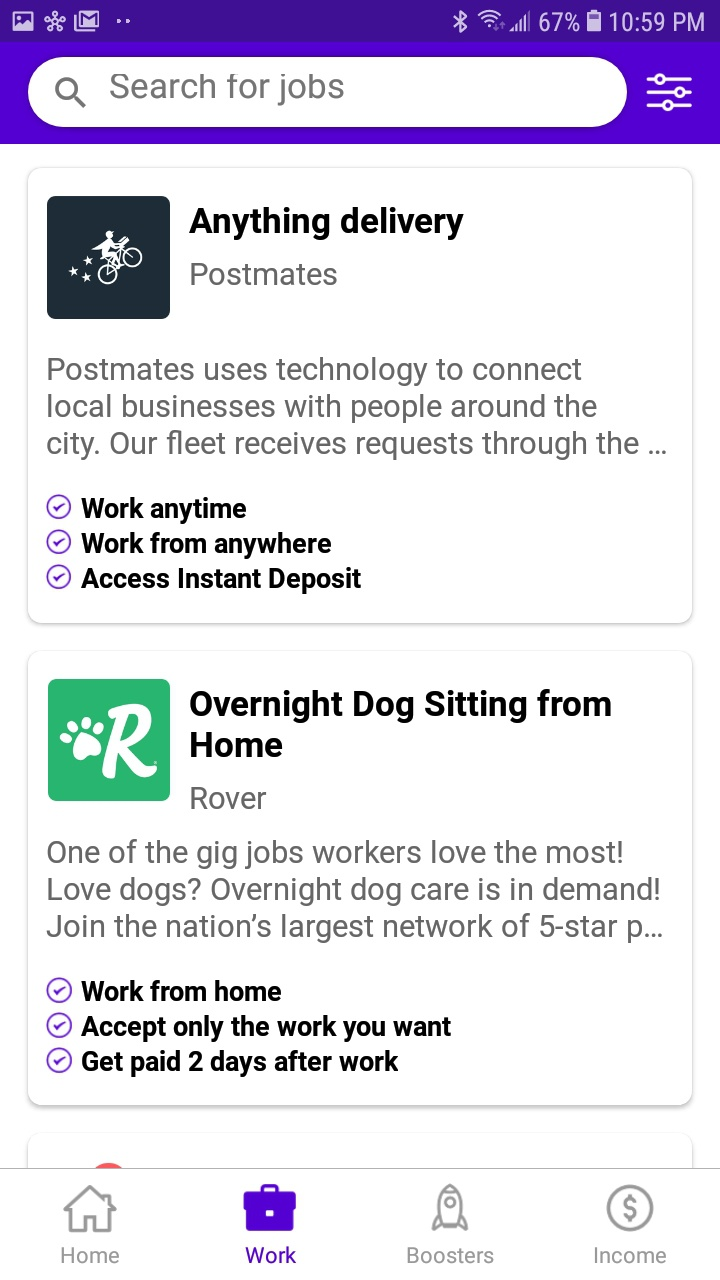CheckedTextView: (46, 1012, 453, 1044), (46, 1049, 400, 1080), (46, 564, 362, 595), (46, 529, 333, 560), (46, 976, 283, 1004), (46, 494, 248, 525)
EditText: (28, 58, 628, 129)
Icon: (63, 1184, 118, 1233), (243, 1184, 297, 1232), (606, 1184, 654, 1232), (646, 73, 693, 113), (55, 77, 87, 109)
Image: (47, 196, 171, 320), (48, 679, 171, 802), (431, 1183, 469, 1231)
Text: (47, 839, 663, 944), (47, 358, 666, 461), (190, 689, 612, 758), (81, 1014, 452, 1043), (190, 207, 465, 241), (82, 1049, 399, 1078), (81, 567, 362, 595), (110, 74, 345, 107), (82, 531, 332, 560), (81, 496, 247, 525), (81, 979, 282, 1002), (191, 263, 338, 286), (191, 786, 267, 810), (407, 1247, 494, 1264), (594, 1247, 666, 1264), (61, 1246, 120, 1264), (245, 1245, 297, 1264)
UpperTaskBar: (1, 1, 720, 43)
